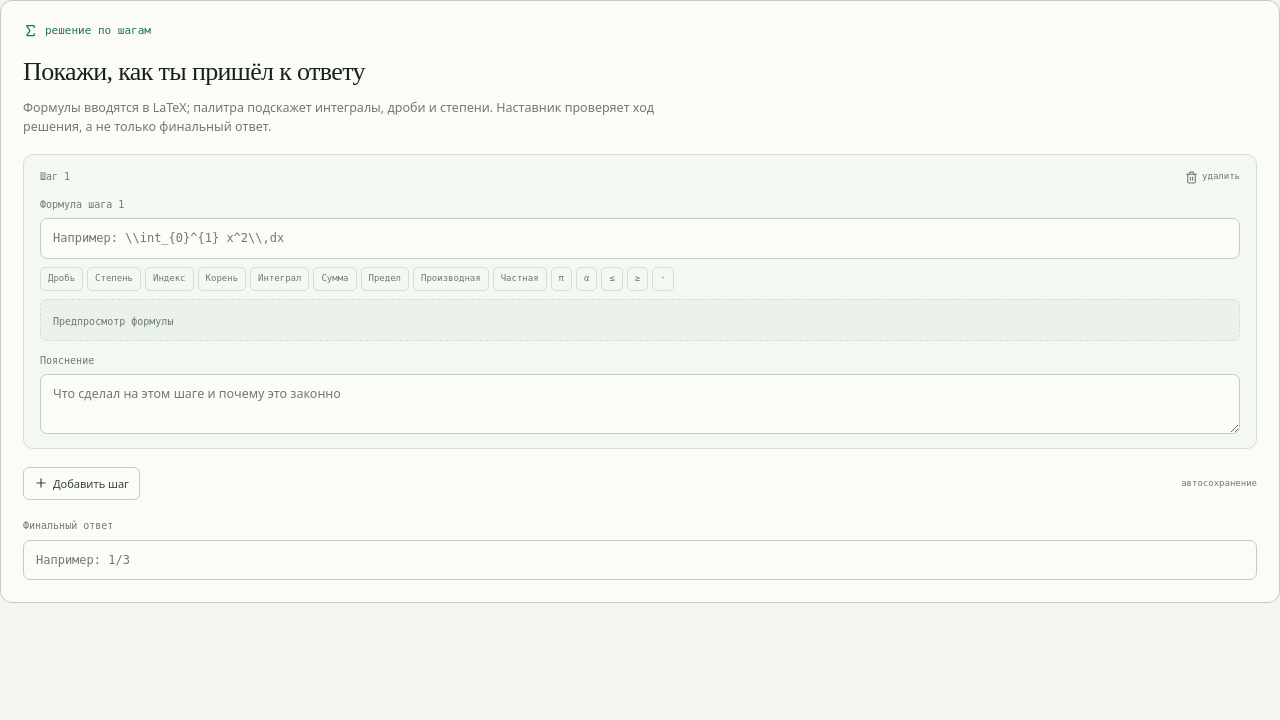
StepsPractice › inserts palette snippets into the focused formula field
Click the button "Дробь" at (62, 279), box [40,267,83,291]
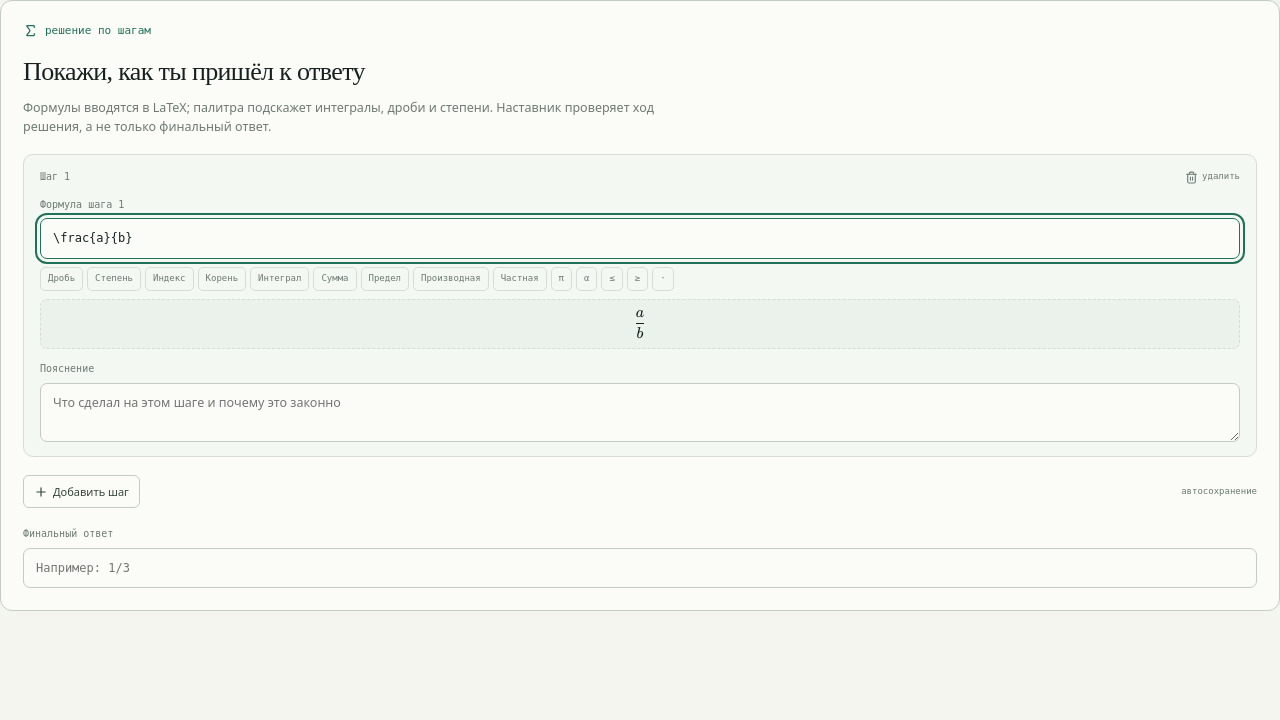
expect the field labelled "Формула шага 1" holds "\\frac{a}{b}": met, box [40,218,1240,259]
